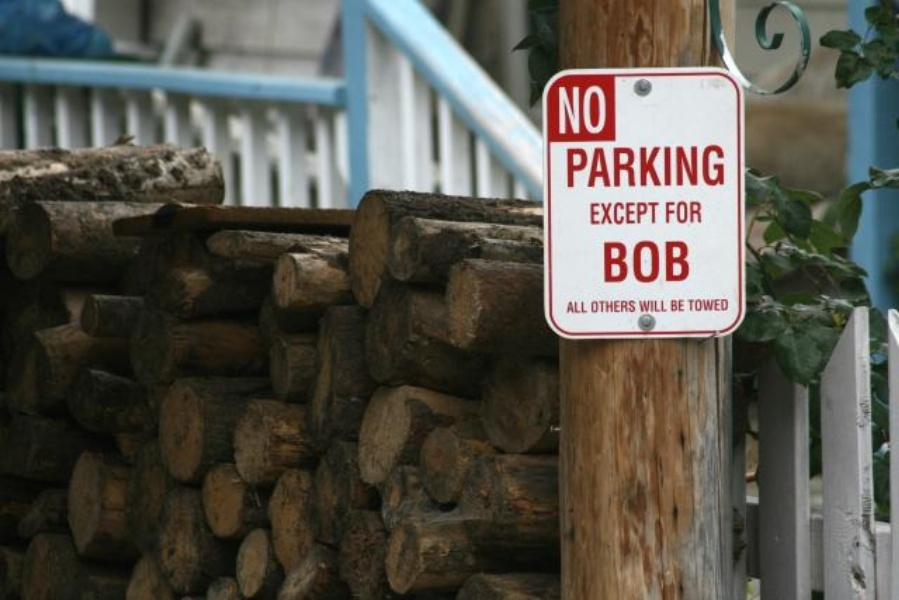text: (561, 85, 576, 134), (577, 85, 592, 134), (673, 239, 689, 284), (609, 239, 624, 284), (625, 239, 640, 284), (641, 239, 656, 284), (657, 239, 672, 284), (577, 144, 592, 187), (593, 144, 608, 187), (609, 144, 624, 187), (625, 144, 640, 187), (641, 144, 656, 187), (657, 144, 672, 187), (673, 144, 688, 187), (689, 144, 704, 187), (705, 144, 720, 187), (593, 85, 606, 134), (567, 144, 576, 187), (593, 201, 608, 225), (609, 201, 624, 225), (625, 201, 640, 225), (641, 201, 656, 225), (673, 200, 688, 224), (689, 200, 701, 224), (603, 239, 608, 284), (593, 300, 608, 314), (609, 300, 624, 314), (689, 298, 704, 312), (705, 298, 720, 312), (673, 298, 686, 312), (641, 300, 656, 312), (721, 144, 725, 187), (665, 200, 672, 224), (625, 300, 635, 314), (567, 300, 576, 314), (577, 300, 586, 314), (657, 300, 666, 312), (558, 85, 560, 134), (721, 298, 728, 312), (657, 201, 661, 225), (589, 201, 592, 225), (590, 300, 592, 314), (638, 300, 640, 312), (671, 298, 672, 312), (687, 298, 688, 312)
